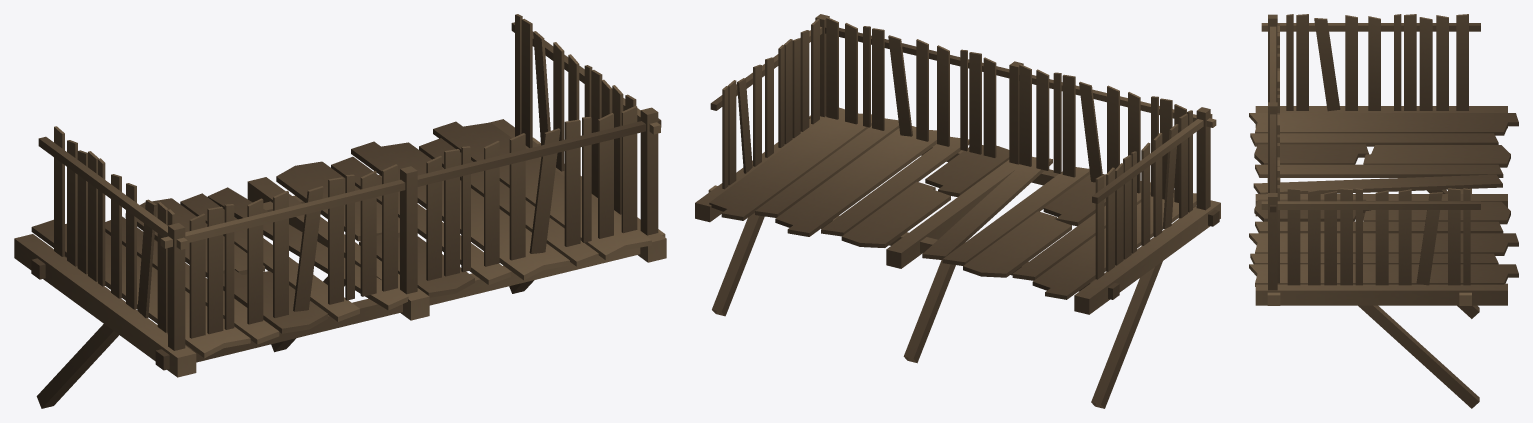
File: ZLP_Build_D_4.FBX
3 views of the same model, side by side, from view 1: azimuth 30°, elevation 25°; view 2: azimuth 150°, elevation 25°; view 3: azimuth 270°, elevation 25° (orthographic). The views are drawn at different scales.
Visible parts, largest first — view 1: ZLP_Build_D_4; view 2: ZLP_Build_D_4; view 3: ZLP_Build_D_4.
Part boxes in pixels (x1,y1,x2,y2): ZLP_Build_D_4: (14,14,666,408); ZLP_Build_D_4: (695,14,1220,408); ZLP_Build_D_4: (1249,14,1518,408).
Size of the model in its own units: 396 by 212 by 239.
